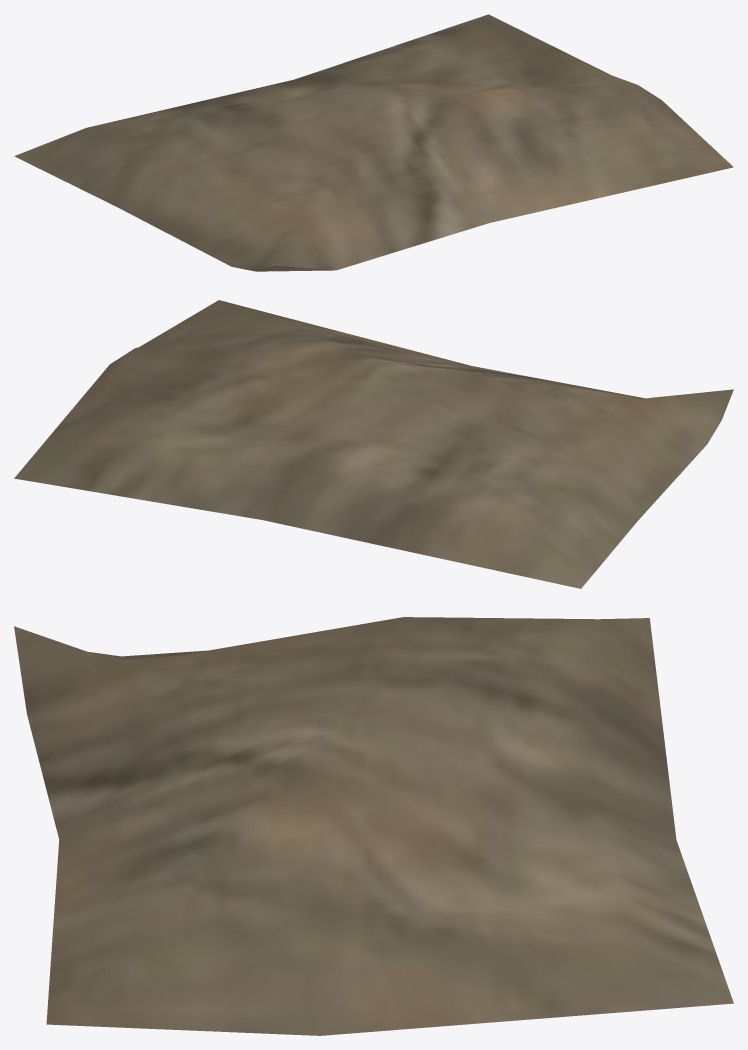
File: pir_m_hnd_hsw_rag.fbx
The picture shows the model from 3 angles, top to bottom: view 1: azimuth 30°, elevation 25°; view 2: azimuth 150°, elevation 25°; view 3: azimuth 270°, elevation 25°; orthographic projection. The views are drawn at different scales.
Visible parts, largest first — view 1: lod_high; view 2: lod_high; view 3: lod_high.
Boxes of the visible parts, <box> form: lod_high: <box>14,14,733,271</box>; lod_high: <box>14,300,733,588</box>; lod_high: <box>14,617,733,1035</box>.
Size of the model in its own units: 68.18 by 7.66 by 49.64.
Materials: 1 (1 with a texture image).
